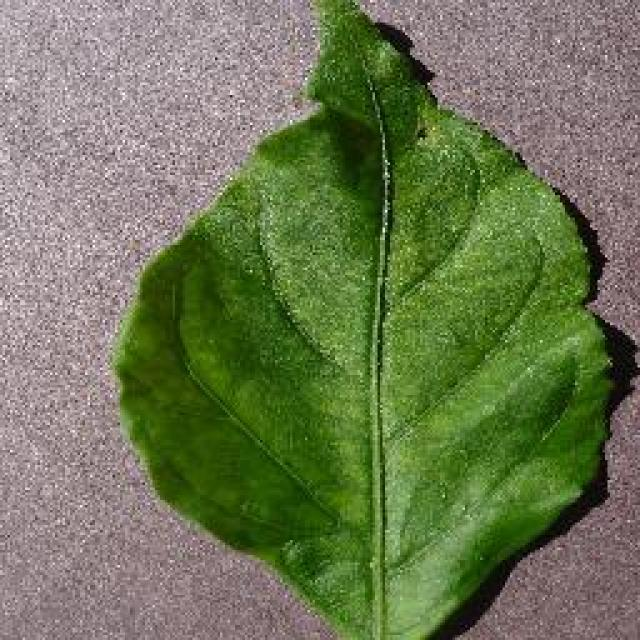Chilli_Healthy: (108, 0, 620, 638)
